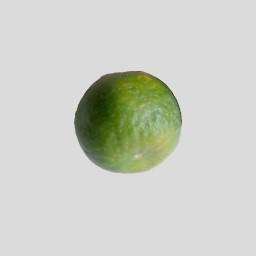Unripe: (72, 71, 181, 174)
